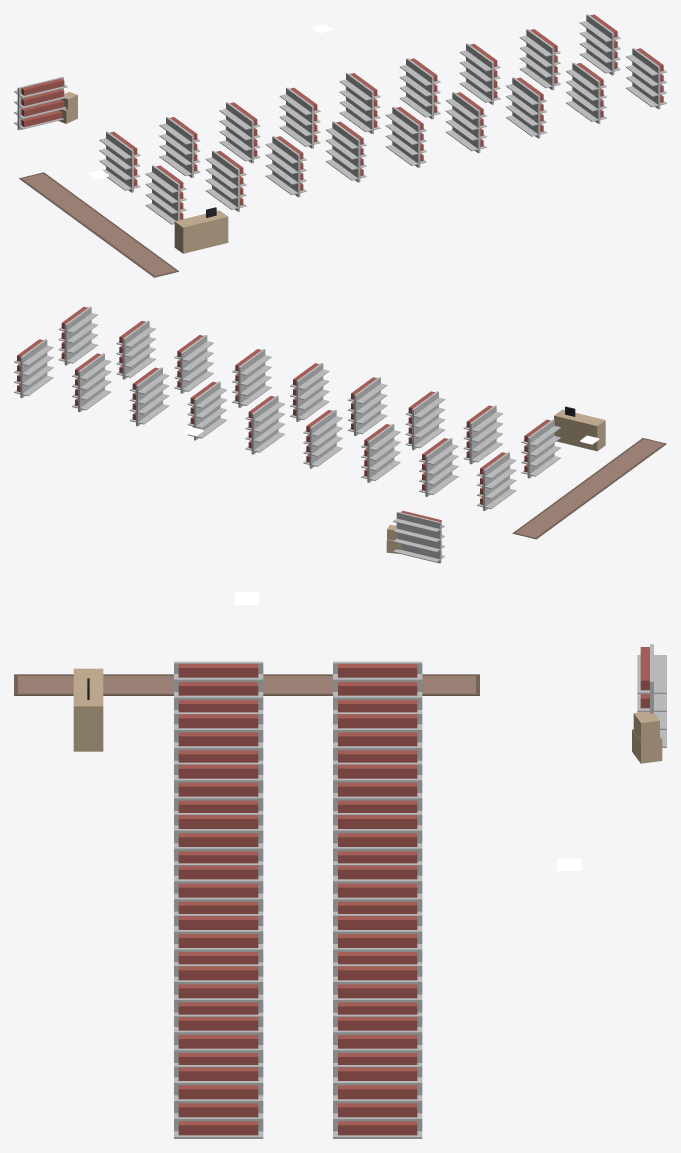
File: fine-s0.glb
3 renders of one model, top to bottom at view 1: azimuth 30°, elevation 25°; view 2: azimuth 150°, elevation 25°; view 3: azimuth 270°, elevation 25°, orthographic. The views are drawn at different scales.
Parts seen in each view (by area): view 1: soft-s0, shelving.000, shop-counter.000, shelf.007, shelf.014, shelf.016, shelf.004, shelf.005, shelf.006, shelf.008, shelf.011, shelf.003 (+10 smaller); view 2: soft-s0, shelving.000, shop-counter.000, shelf.006, shelf.008, shelf.012, shelf.013, shelf.015, shelf.017, shelf.004, shelf.005, shelf.011 (+9 smaller); view 3: shelf.016, shelf.017, soft-s0, shelf.000, shelf.001, shelf.002, shelf.003, shelf.008, shelf.009, shelf.012, shelf.013, shelf.004 (+10 smaller).
Boxes of the visible parts, x1,y1,x2,y2 form: soft-s0: (19, 172, 178, 277); shelving.000: (14, 76, 67, 130); shop-counter.000: (174, 207, 228, 253); shelf.007: (325, 121, 366, 182); shelf.014: (519, 29, 560, 90); shelf.016: (579, 14, 620, 75); shelf.004: (219, 102, 260, 163); shelf.005: (265, 136, 306, 197); shelf.006: (279, 87, 320, 148); shelf.008: (339, 73, 380, 133); shelf.011: (445, 92, 486, 153); shelf.003: (205, 150, 246, 211); soft-s0: (512, 438, 666, 539); shelving.000: (393, 510, 444, 563); shop-counter.000: (554, 406, 605, 451); shelf.006: (303, 409, 342, 468); shelf.008: (245, 395, 284, 454); shelf.012: (129, 367, 169, 426); shelf.013: (174, 334, 213, 393); shelf.015: (116, 320, 155, 379); shelf.017: (58, 306, 97, 365); shelf.004: (361, 424, 400, 482); shelf.005: (405, 391, 445, 450); shelf.011: (232, 349, 271, 407); shelf.016: (333, 1065, 422, 1138); shelf.017: (174, 1065, 263, 1138); soft-s0: (14, 674, 479, 695); shelf.000: (333, 661, 422, 712); shelf.001: (174, 661, 263, 712); shelf.002: (333, 712, 422, 762); shelf.003: (174, 712, 263, 762); shelf.008: (333, 863, 422, 913); shelf.009: (174, 863, 263, 913); shelf.012: (333, 964, 422, 1014); shelf.013: (174, 964, 263, 1014); shelf.004: (333, 762, 422, 812).
Bounding box in the file's own units: 22.35 × 1.96 × 13.14.
